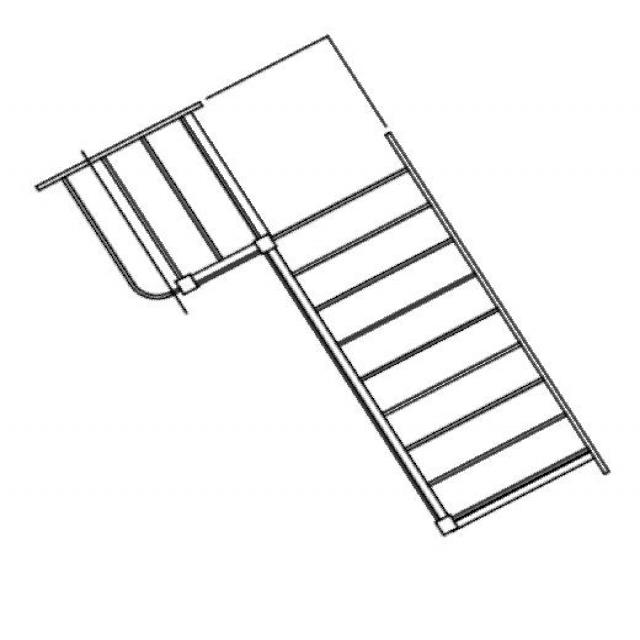stair: (36, 33, 615, 577)
